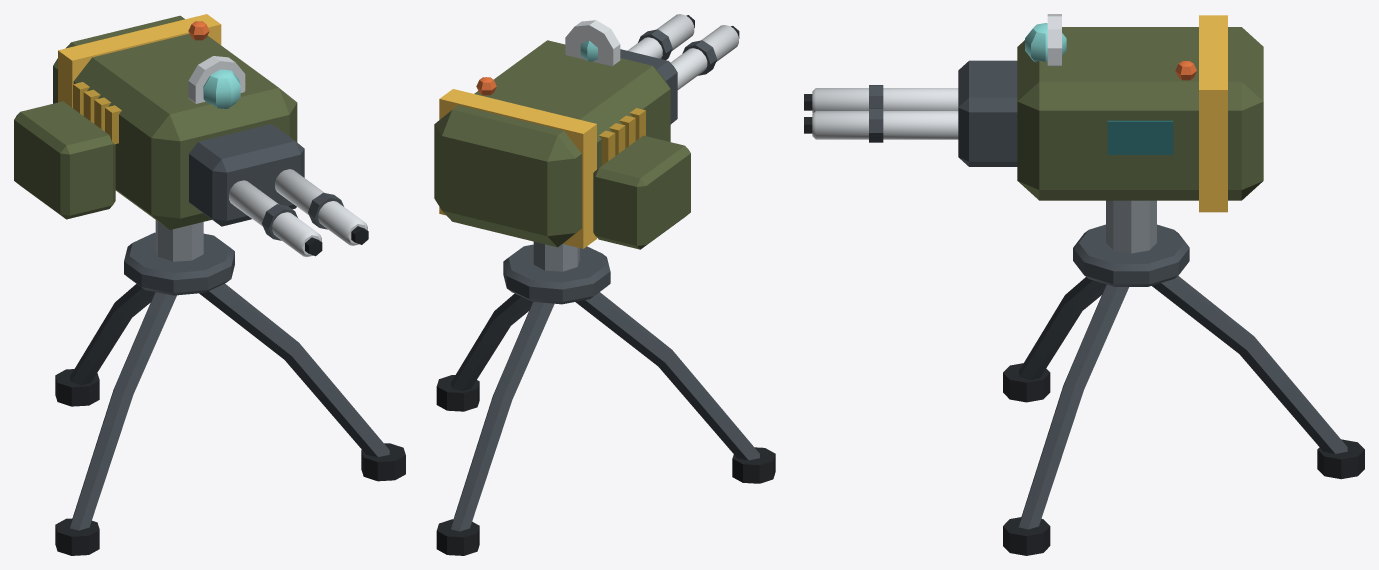
The model's file is Prop_Turret.fbx.
The picture shows the model from 3 angles, left to right: view 1: azimuth 30°, elevation 25°; view 2: azimuth 150°, elevation 25°; view 3: azimuth 270°, elevation 25°; orthographic projection. The views are drawn at different scales.
Visible parts, largest first — view 1: Turret, Turret_, SensorEye; view 2: Turret, Turret_, SensorEye; view 3: Turret, Turret_, SensorEye.
Boxes of the visible parts, left/top/right/bottom form: Turret: left=14, top=14, right=405, bottom=555; Turret_: left=229, top=169, right=367, bottom=256; SensorEye: left=188, top=21, right=240, bottom=108; Turret: left=434, top=15, right=775, bottom=555; Turret_: left=627, top=14, right=738, bottom=89; SensorEye: left=476, top=40, right=597, bottom=95; Turret: left=804, top=14, right=1364, bottom=555; Turret_: left=812, top=85, right=958, bottom=142; SensorEye: left=1025, top=23, right=1196, bottom=80.
Bounding box in the file's own units: 2.25 × 2.74 × 3.07.
